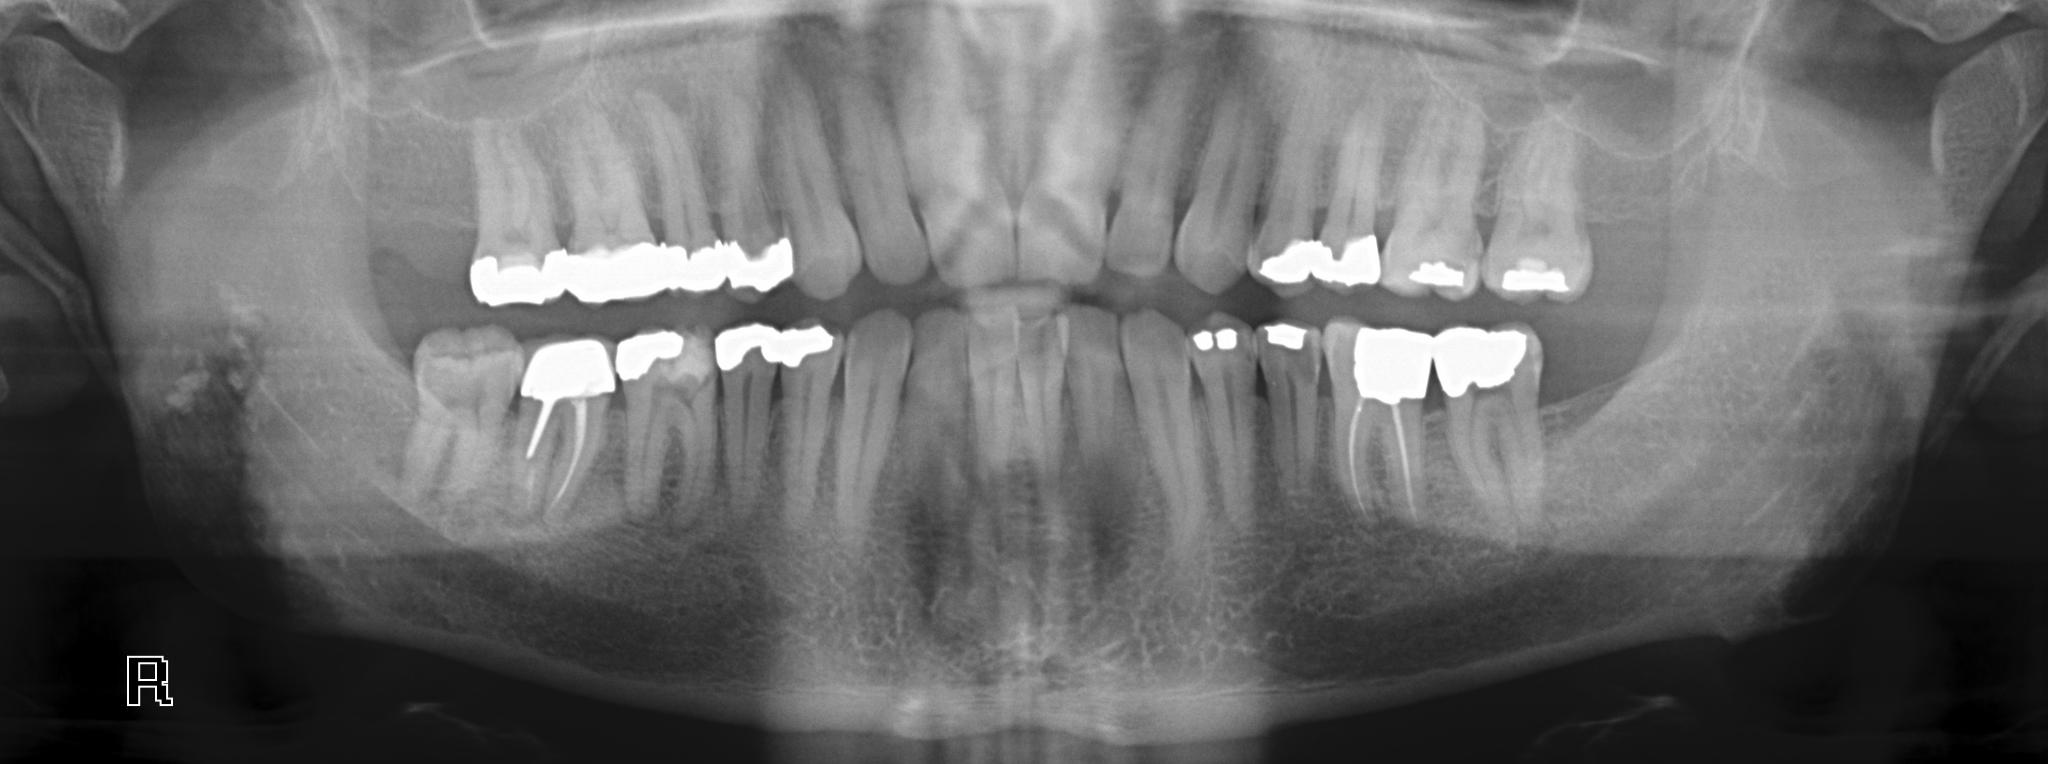Fillings: (1432, 323, 1552, 532), (713, 317, 835, 520), (1375, 98, 1488, 302), (1480, 108, 1596, 303), (558, 104, 667, 306), (613, 324, 714, 524), (461, 124, 567, 313), (712, 93, 793, 298), (1245, 104, 1326, 293), (1255, 316, 1324, 522)
Implant: (1315, 317, 1445, 535), (500, 340, 623, 525)
